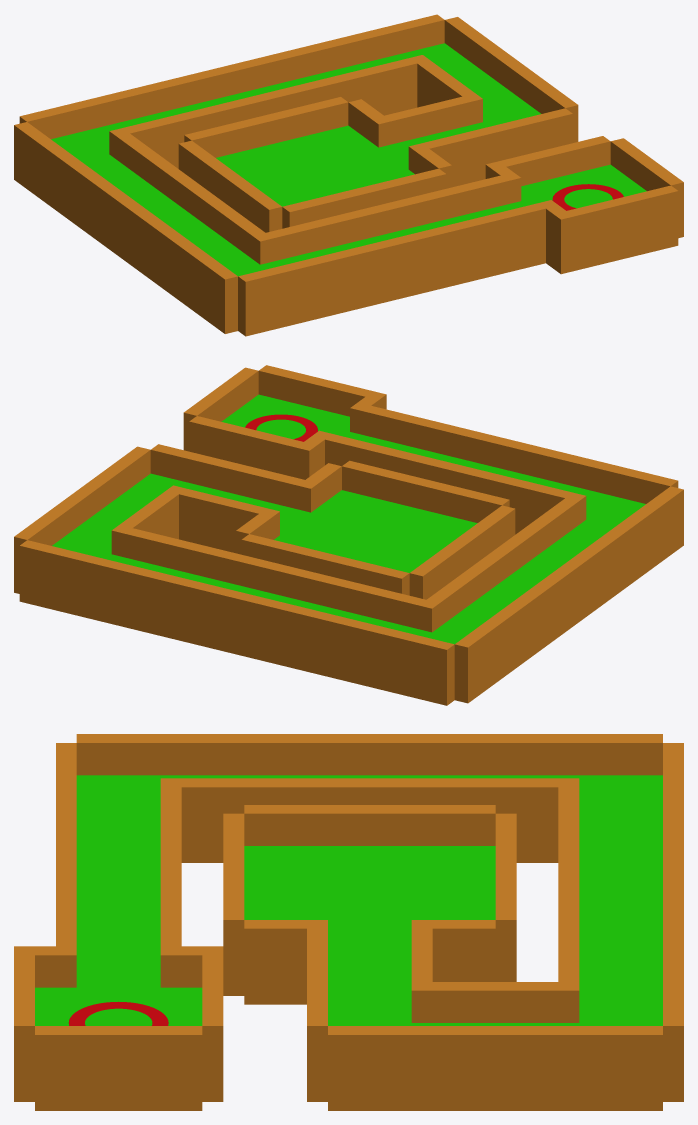
Rendered from Level#6.fbx.
3 views of the same model, one above another, from view 1: azimuth 30°, elevation 25°; view 2: azimuth 150°, elevation 25°; view 3: azimuth 270°, elevation 25° (orthographic). The views are drawn at different scales.
Visible parts, largest first — view 1: Cube.017, Cube.018, Cube.013, Cube.019, Cube, Cube.021, Cube.024, Cube.012, Cube.020, Cube.008, Cube.004, Cube.016 (+15 smaller); view 2: Cube.013, Cube.018, Cube.019, Cube.017, Cube, Cube.021, Cube.020, Cube.004, Cube.012, Cube.007, Cube.016, Cube.022 (+15 smaller); view 3: Cube.016, Cube.018, Cube, Cube.003, Cube.020, Cube.005, Cube.023, Cube.009, Cube.013, Cube.014, Cube.001, Cube.006 (+16 smaller).
Part boxes in pixels (x1,y1,x2,y2): Cube.017: (238,200,558,336); Cube.018: (14,122,237,333); Cube.013: (19,14,444,138); Cube.019: (109,56,429,168); Cube: (216,125,414,206); Cube.021: (254,172,521,263); Cube.024: (567,185,678,270); Cube.012: (408,108,572,187); Cube.020: (117,133,273,264); Cube.008: (184,97,348,157); Cube.004: (81,154,265,276); Cube.016: (444,17,578,142); Cube.013: (19,540,454,705); Cube.018: (454,486,683,703); Cube.019: (111,525,439,632); Cube.017: (350,402,678,503); Cube: (274,490,477,572); Cube.021: (312,430,585,534); Cube.020: (419,492,586,631); Cube.004: (432,497,645,639); Cube.012: (150,444,318,512); Cube.007: (342,460,509,522); Cube.016: (14,446,150,593); Cube.022: (189,416,303,477); Cube.016: (328,1026,662,1110); Cube.018: (76,734,662,775); Cube: (244,846,495,952); Cube.003: (579,775,662,1022); Cube.020: (160,778,578,862); Cube.005: (76,810,160,987); Cube.023: (35,1026,202,1110); Cube.009: (244,805,495,845); Cube.013: (663,743,683,1101); Cube.014: (411,982,579,1022); Cube.001: (328,952,411,1025); Cube.006: (35,987,202,1025).
Size of the model in its own units: 1700 by 200 by 1600.
